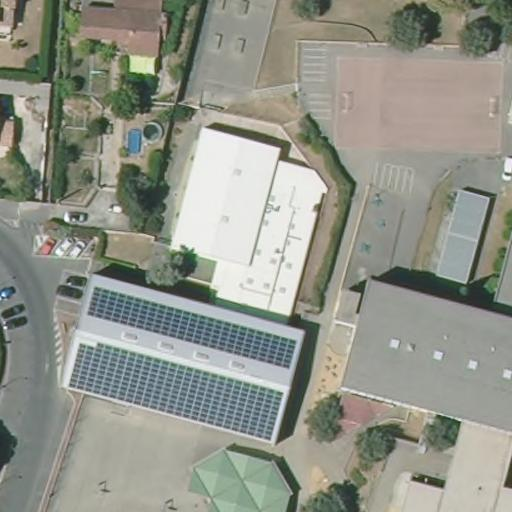pool: (121, 126, 148, 158)
